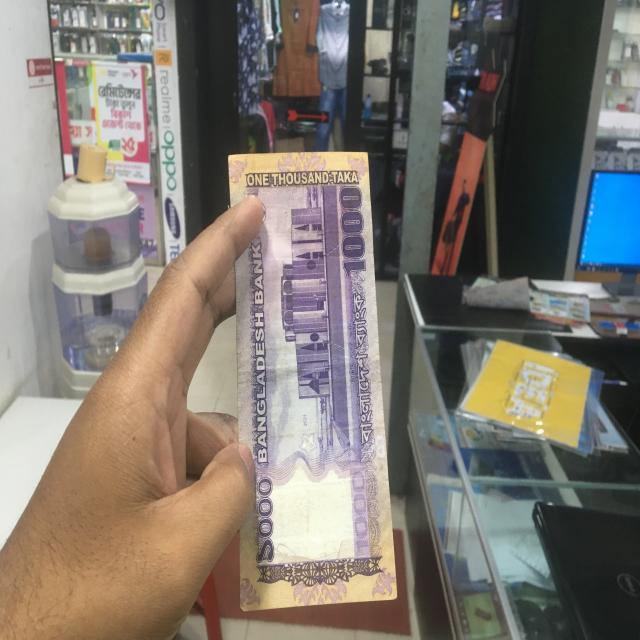Taka: (225, 152, 398, 601)
